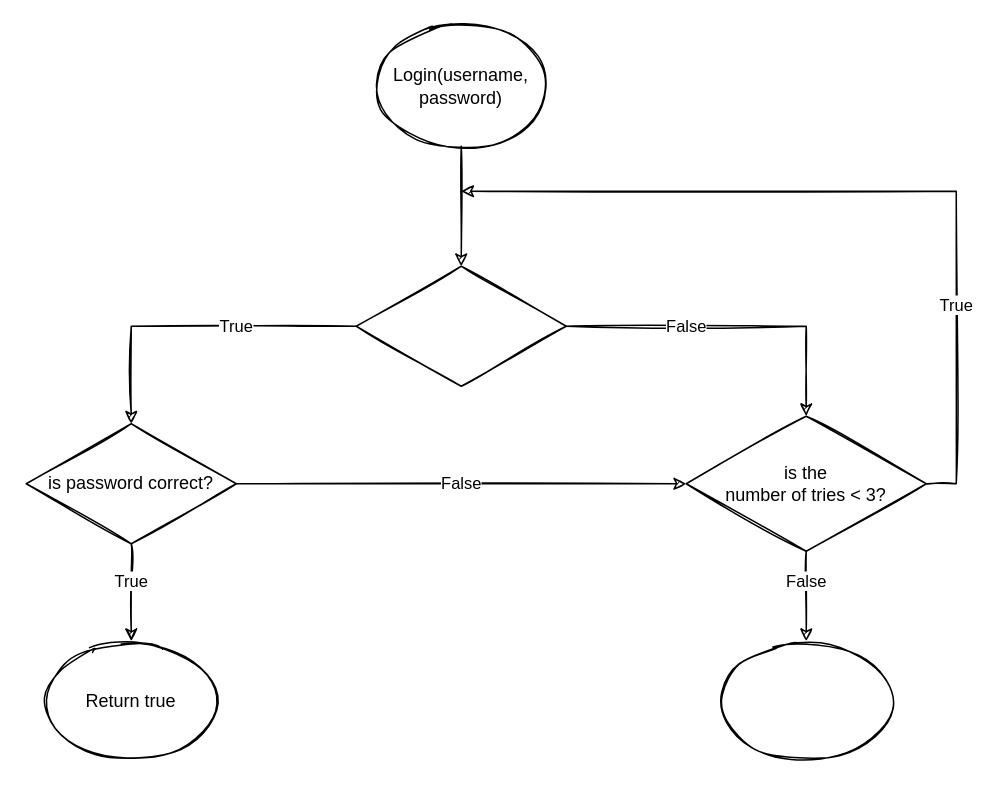
The diagram is 999 pixels wide and 788 high, and some of its shapes have lost their labels. Here are the shapes that lost their labels. From the top down, the centre of each, then its label:
[460,325]: is username correct?
[805,700]: Return false
